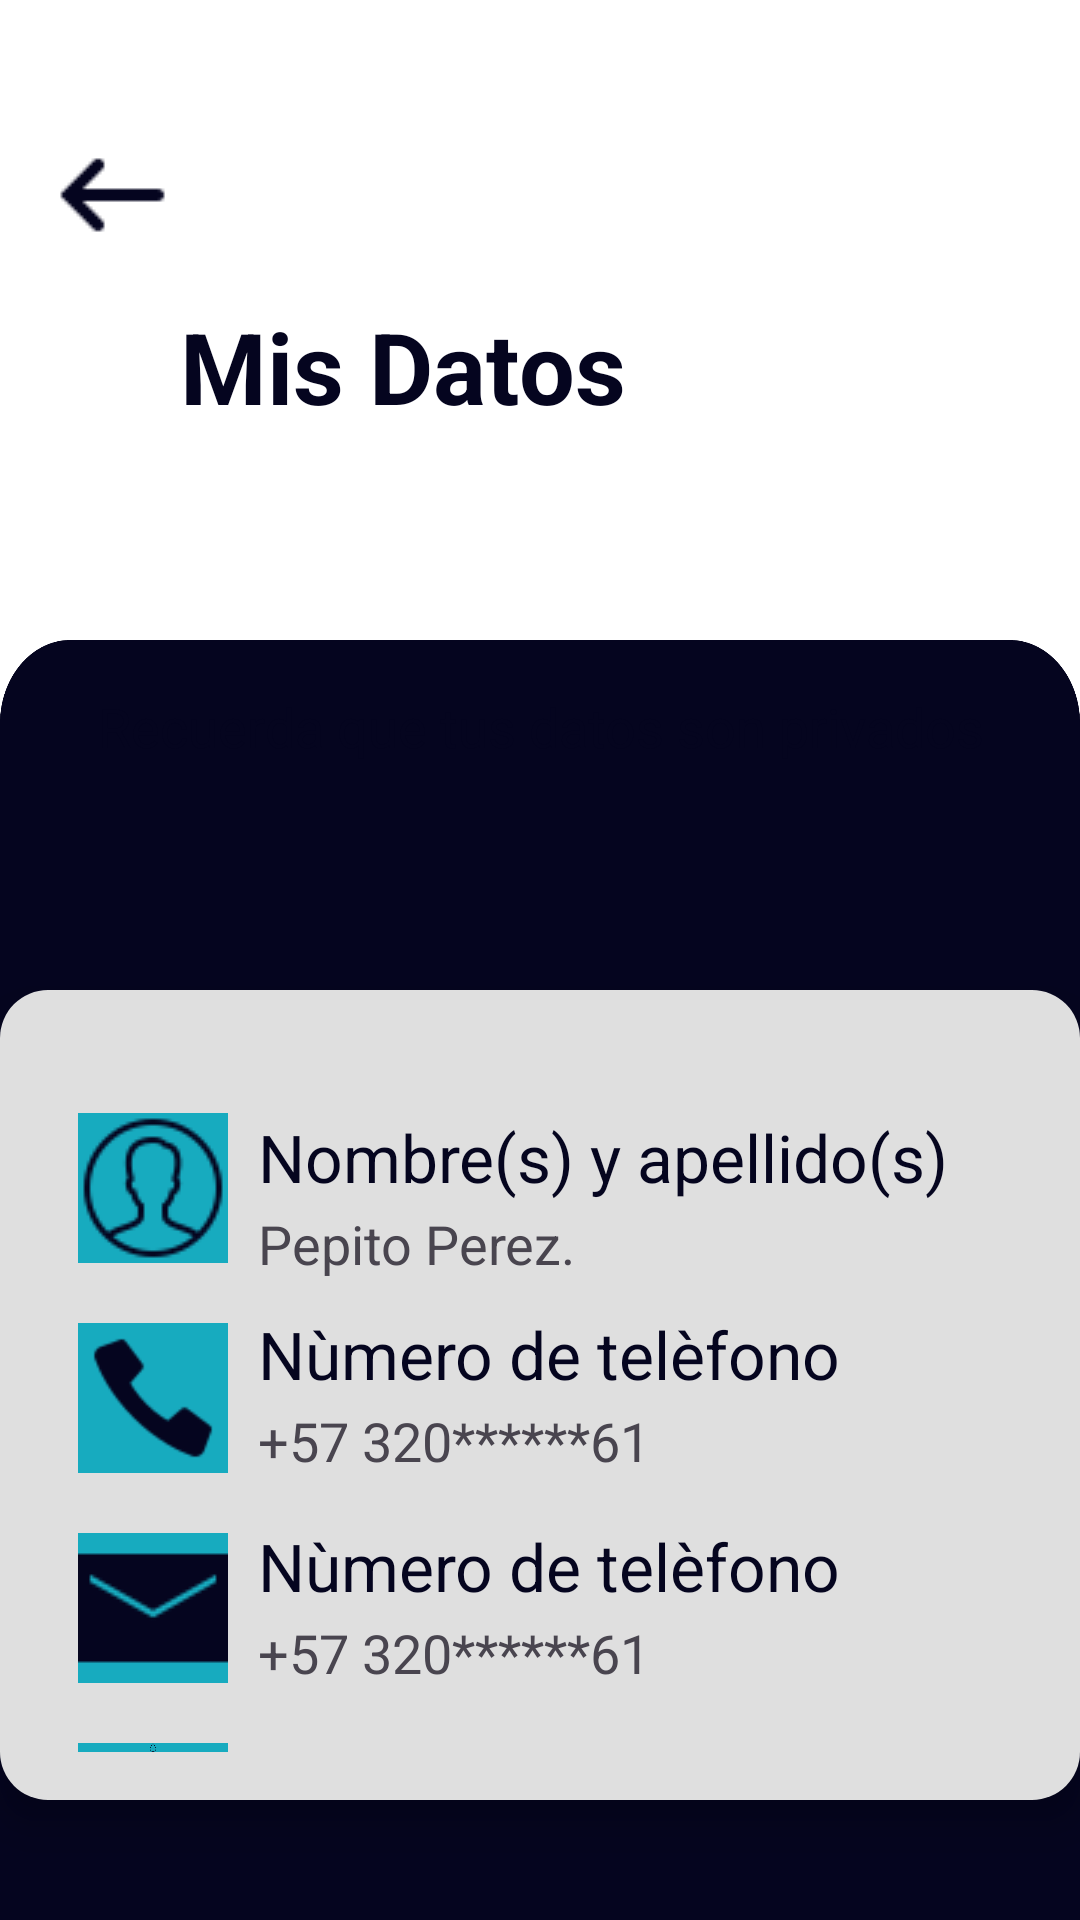

Where icons sit on this 1080px×1920px app screen, as (x1,y1,x2,y2):
atrasn: (60,158,165,232)
correo: (78,1533,228,1683)
misdatos: (78,1113,228,1263)
phone: (78,1323,228,1473)
